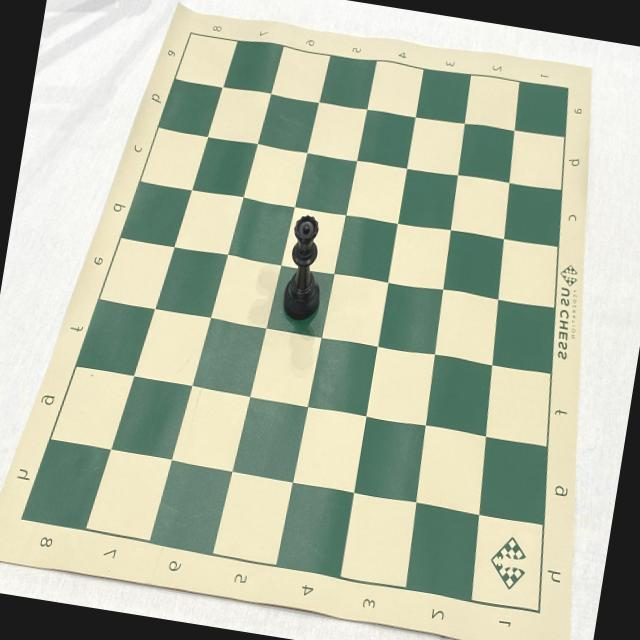black-queen: (278, 213, 334, 326)
